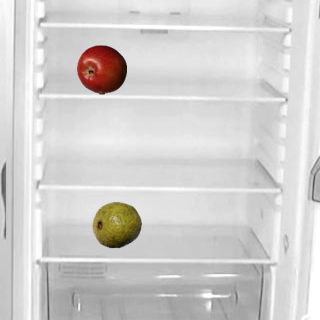Apple Braeburn: (76, 44, 126, 94)
Guava: (91, 199, 141, 249)
